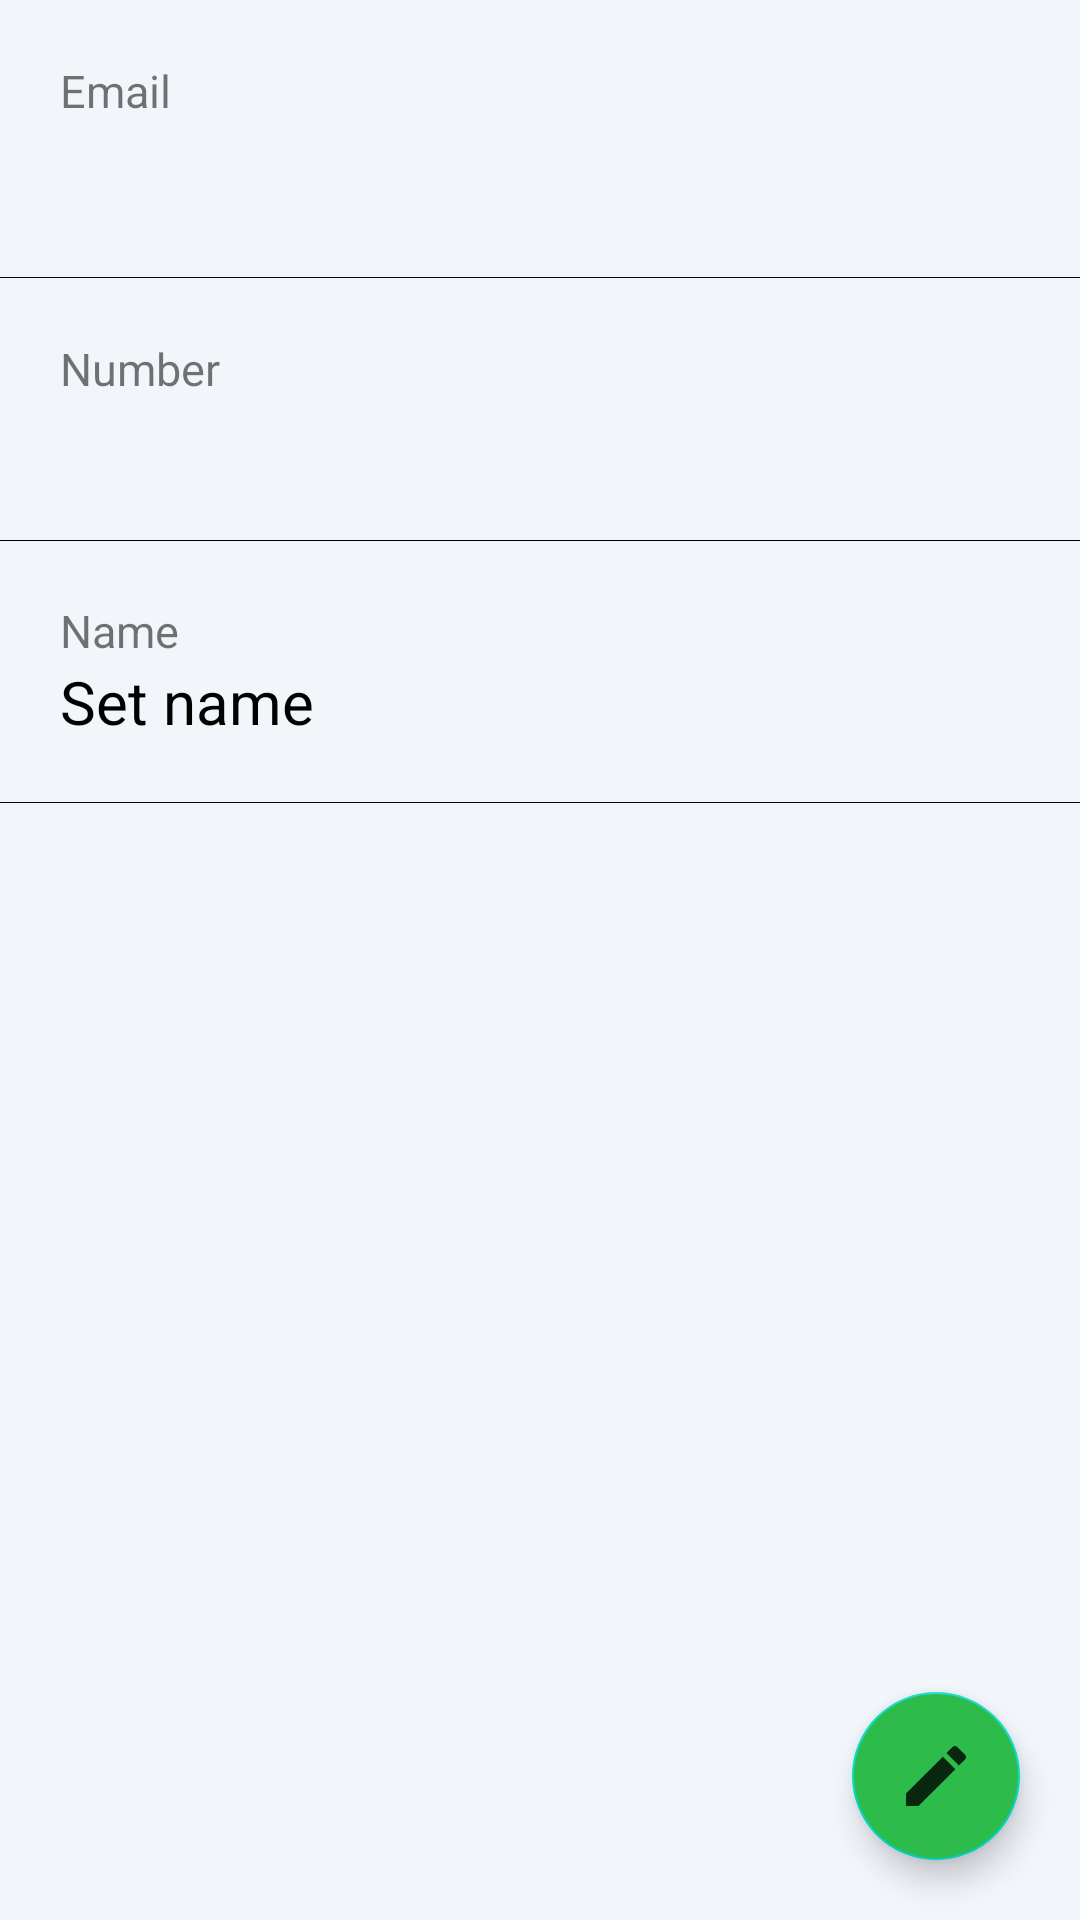

Screen size 1080px×1920px. Icon name, then its center in pixels as point (x, y):
edit: point (936, 1776)
